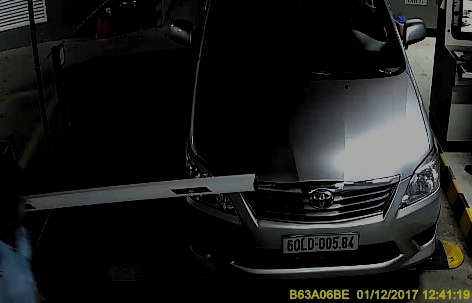plate: (278, 230, 360, 254)
